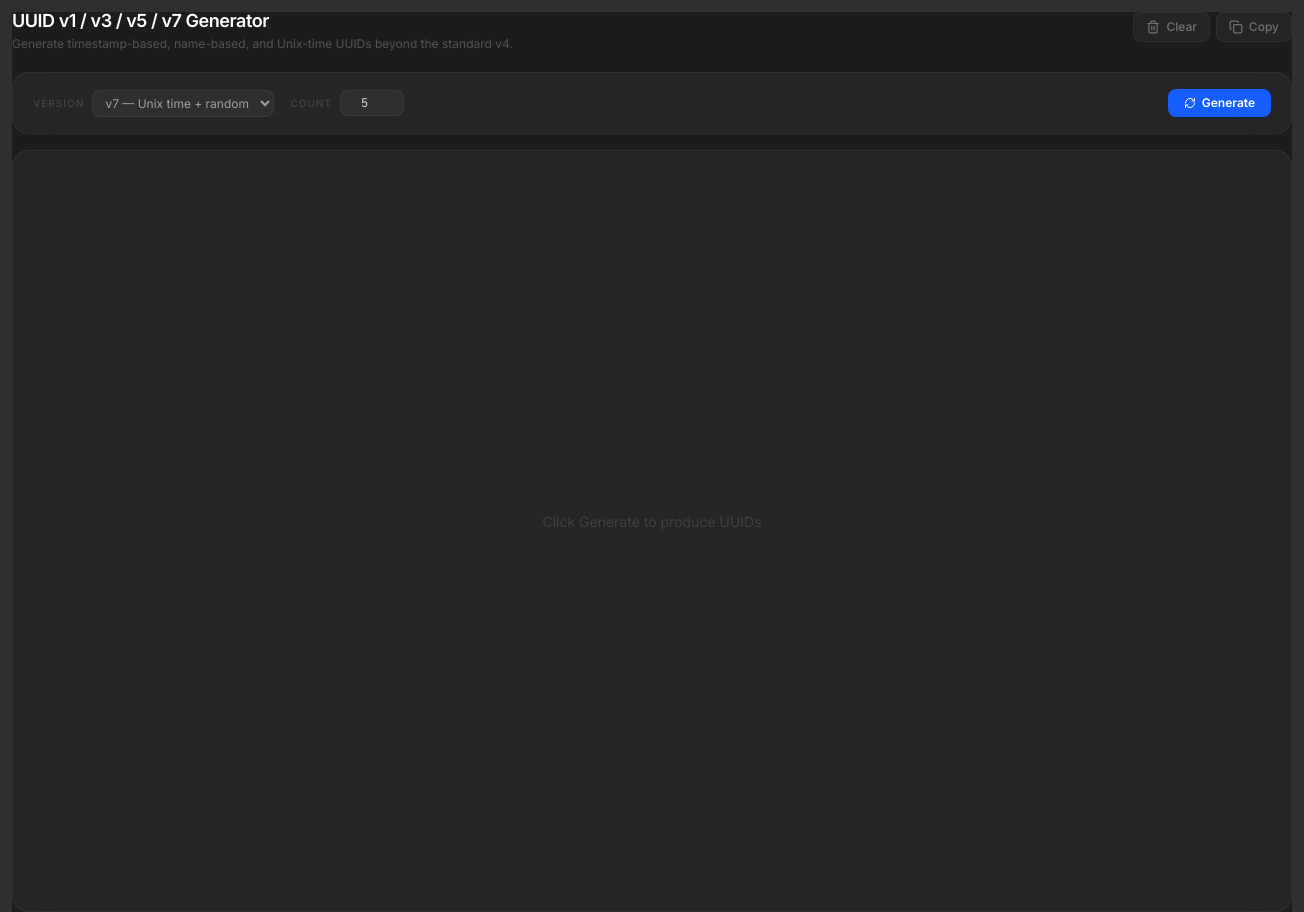
it: UuidVersionsGenerator › generates a v1 UUID with version nibble 1
Select "v1 — Timestamp" in the dropdown at (183, 103), box [92, 90, 274, 116]
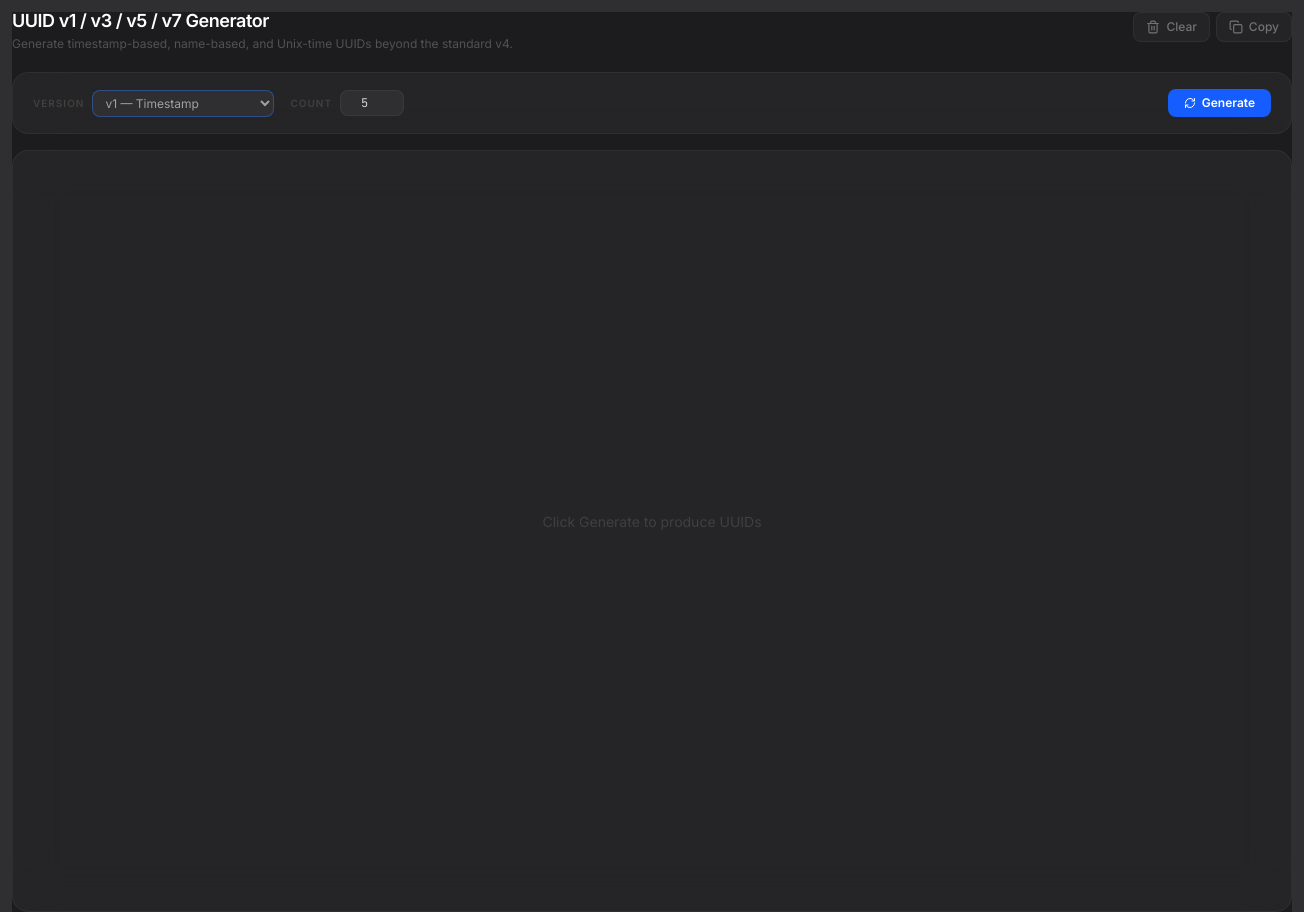
Click the button "Generate" at (1219, 103), box [1168, 89, 1271, 117]
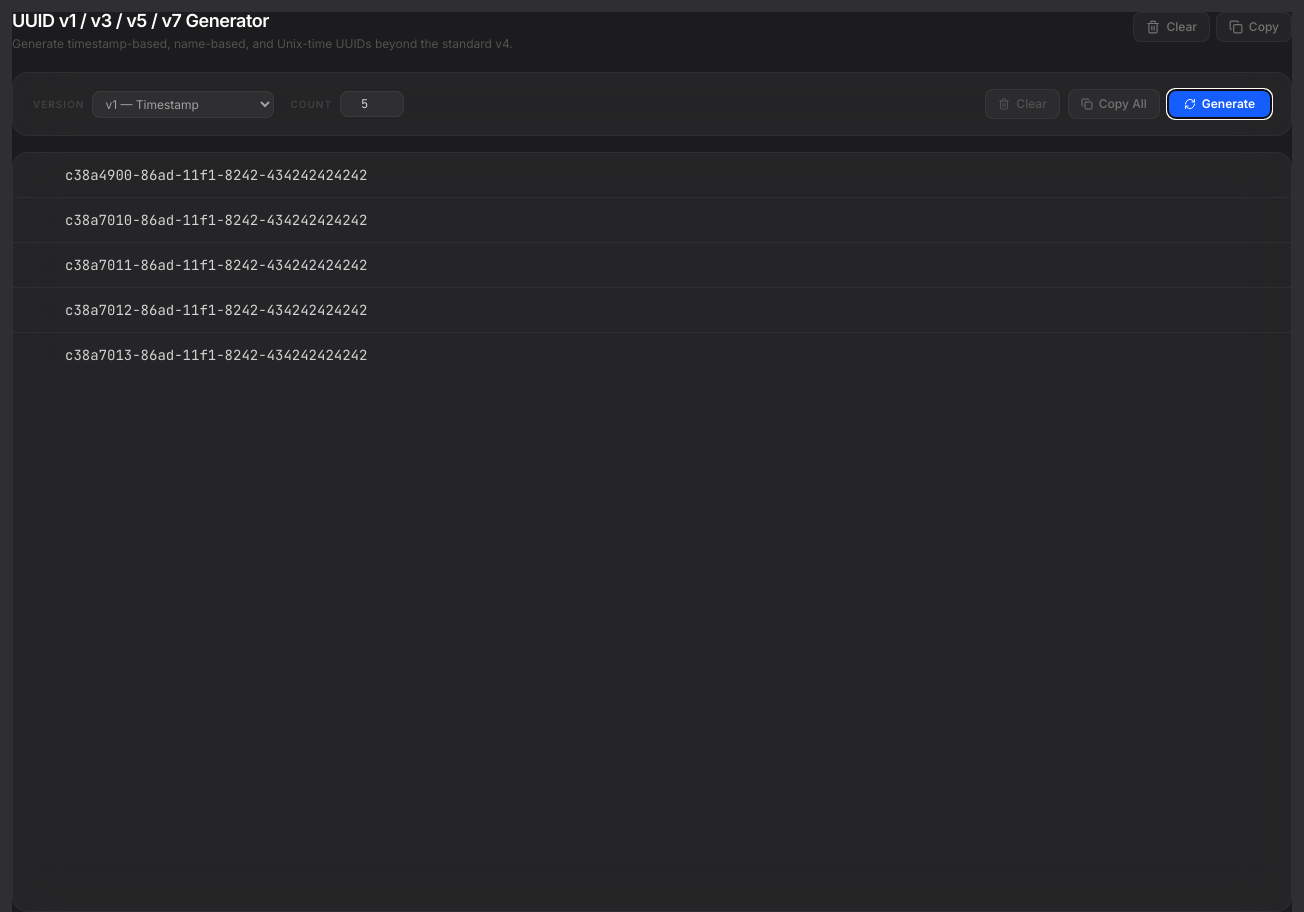
Check: the list item "1 c38a4900-86ad-11f1-8242-434242424242" is shown, box [13, 153, 1291, 198]
